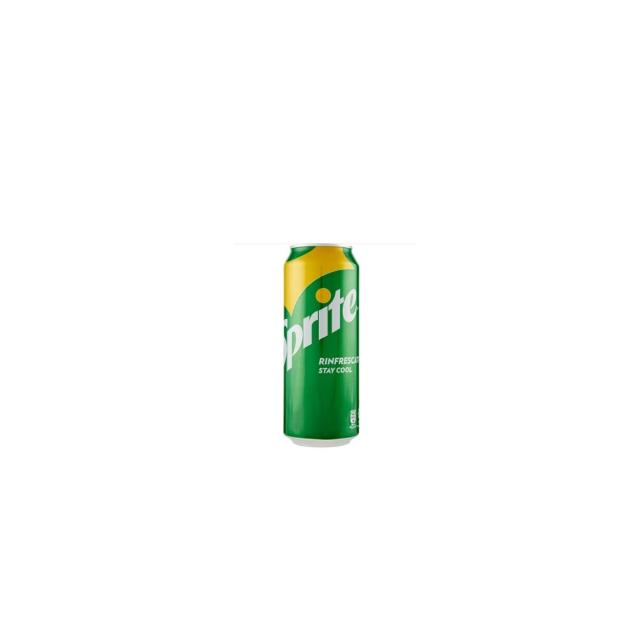sprite: (255, 213, 384, 472)
